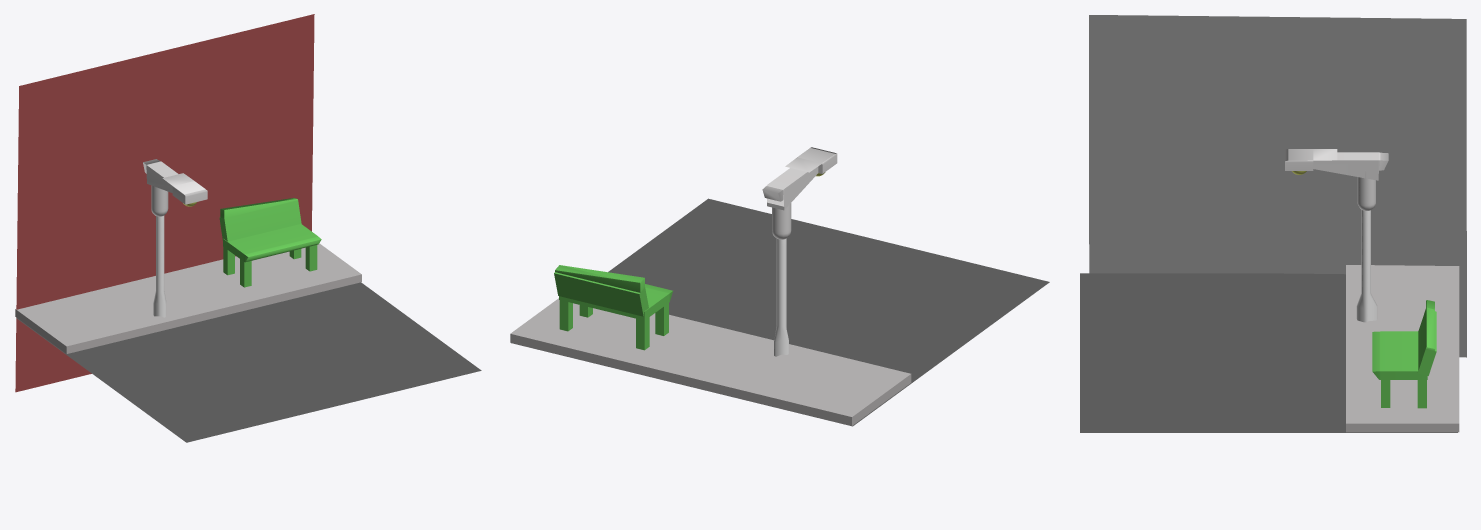
Rendered from street-light-fbx.gltf.
3 views of the same model, side by side, from view 1: azimuth 30°, elevation 25°; view 2: azimuth 150°, elevation 25°; view 3: azimuth 270°, elevation 25° (orthographic). The views are drawn at different scales.
Visible parts, largest first — view 1: Plane1, Plane, Box2, Box8, Box3, Capsule, Box1, Box; view 2: Plane, Box2, Box8, Capsule, Box, Box3, Box1; view 3: Plane2, Plane, Box2, Box3, Box, Capsule, Box8, Box1, Capsule1.
Part boxes in pixels (left/top/right/bottom): Plane1: left=15, top=14, right=314, bottom=392; Plane: left=16, top=282, right=481, bottom=442; Box2: left=15, top=243, right=361, bottom=353; Box8: left=219, top=198, right=301, bottom=241; Box3: left=223, top=224, right=321, bottom=262; Capsule: left=153, top=216, right=166, bottom=317; Box1: left=162, top=173, right=207, bottom=204; Box: left=143, top=159, right=178, bottom=192; Plane: left=511, top=198, right=1049, bottom=426; Box2: left=510, top=298, right=911, bottom=425; Box8: left=554, top=265, right=648, bottom=316; Capsule: left=774, top=238, right=788, bottom=356; Box: left=762, top=166, right=818, bottom=210; Box3: left=559, top=284, right=672, bottom=320; Box1: left=785, top=147, right=837, bottom=173; Plane2: left=1089, top=15, right=1466, bottom=357; Plane: left=1080, top=273, right=1457, bottom=432; Box2: left=1346, top=265, right=1459, bottom=432; Box3: left=1372, top=331, right=1427, bottom=379; Box: left=1313, top=152, right=1388, bottom=180; Capsule: left=1356, top=209, right=1377, bottom=322; Box8: left=1418, top=300, right=1436, bottom=375; Box1: left=1285, top=149, right=1337, bottom=170; Capsule1: left=1357, top=170, right=1375, bottom=210.
Size of the model in its own units: 40.74 by 39.99 by 40.96.
